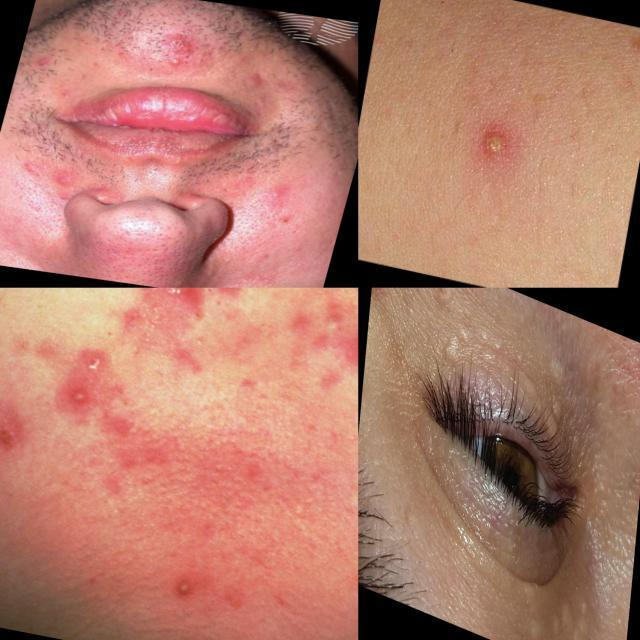Pimples: (427, 292, 524, 404), (462, 98, 543, 190), (520, 378, 576, 440), (530, 334, 576, 389), (154, 562, 197, 610), (0, 395, 25, 471), (309, 302, 356, 339), (258, 176, 306, 208), (548, 592, 578, 640), (197, 288, 266, 308), (59, 378, 93, 418), (571, 595, 595, 640), (47, 167, 82, 194), (157, 52, 196, 75), (237, 65, 270, 89), (163, 33, 197, 56), (527, 609, 549, 640), (17, 155, 47, 177), (142, 288, 195, 298), (23, 58, 48, 71)
